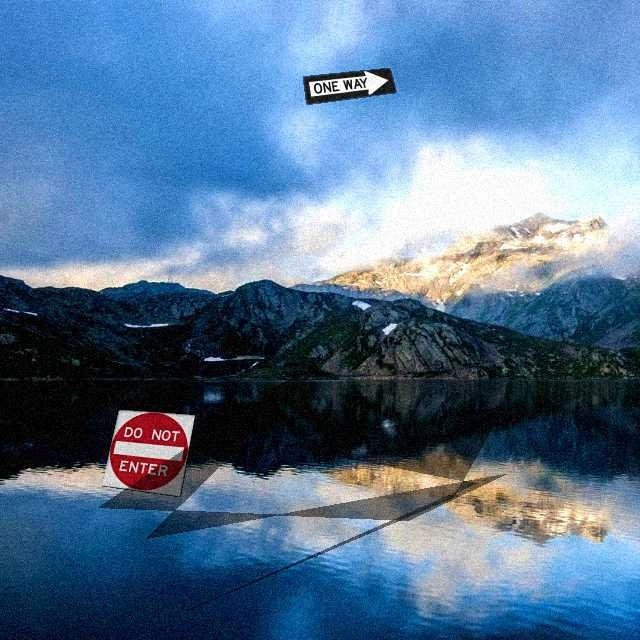DO_NOT_ENTER: (101, 409, 196, 497)
ONE_WAY_ right: (302, 67, 397, 105)
